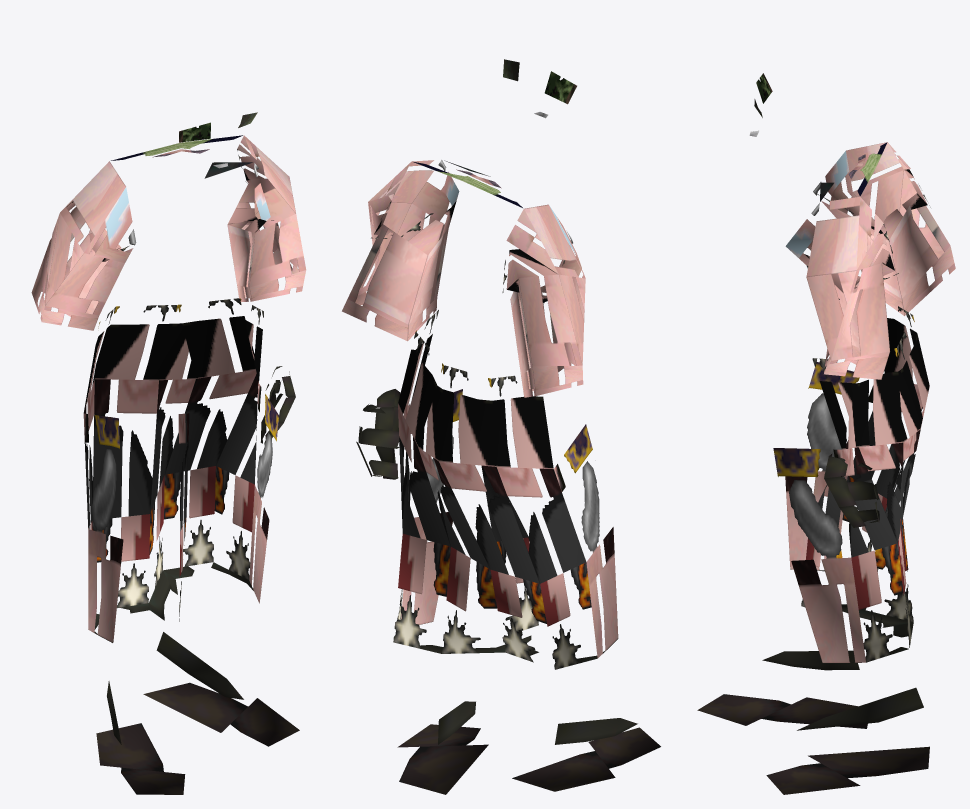
3 renders of one model, left to right at view 1: azimuth 30°, elevation 25°; view 2: azimuth 150°, elevation 25°; view 3: azimuth 270°, elevation 25°, orthographic. The views are drawn at different scales.
Visible parts, largest first — view 1: T1L6M006_11; view 2: T1L6M006_11; view 3: T1L6M006_11.
Boxes of the visible parts, box(x1,y1,x2,y2) form: T1L6M006_11: box(31, 112, 306, 794); T1L6M006_11: box(342, 59, 660, 794); T1L6M006_11: box(697, 73, 955, 794).
Size of the model in its own units: 0.5766 by 1.54 by 0.4924.
